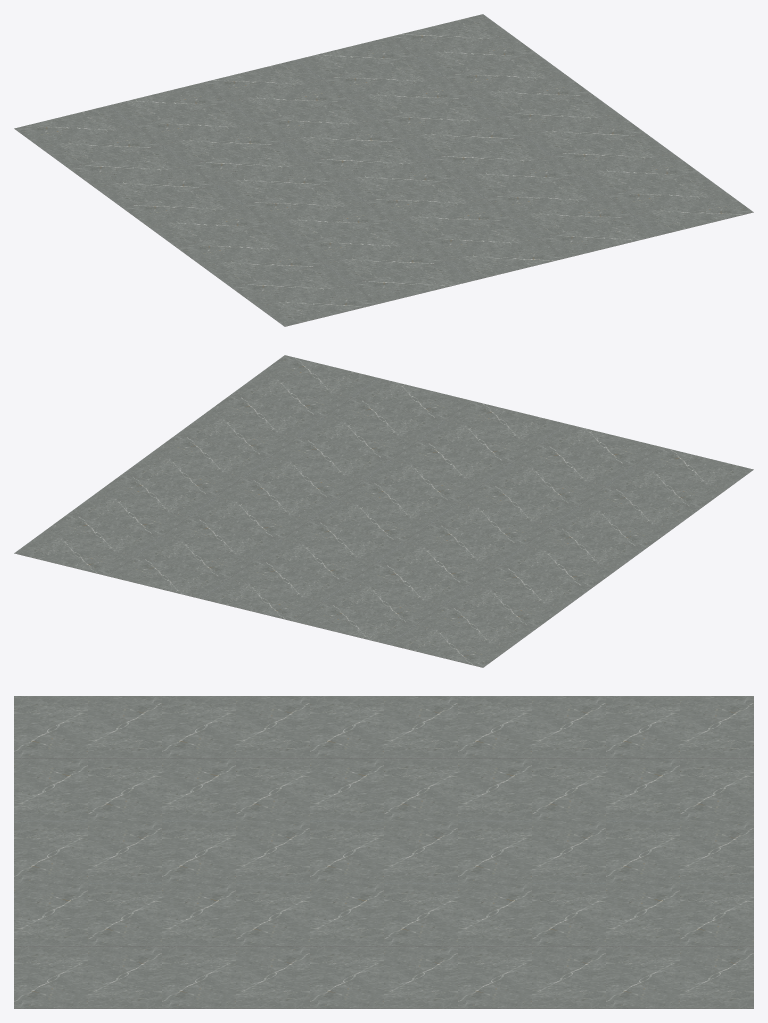
File: imperial-80x160.glb
The picture shows the model from 3 angles, top to bottom: view 1: azimuth 30°, elevation 25°; view 2: azimuth 150°, elevation 25°; view 3: azimuth 270°, elevation 25°; orthographic projection. The views are drawn at different scales.
Visible parts, largest first — view 1: Imperial; view 2: Imperial; view 3: Imperial.
Boxes of the visible parts, x1=… form: Imperial: x1=14, y1=14, x2=753, y2=326; Imperial: x1=14, y1=355, x2=753, y2=667; Imperial: x1=14, y1=696, x2=753, y2=1008.
Bounding box in the file's own units: 8 × 0.003 × 8.
Materials: 2 (1 with a texture image).
